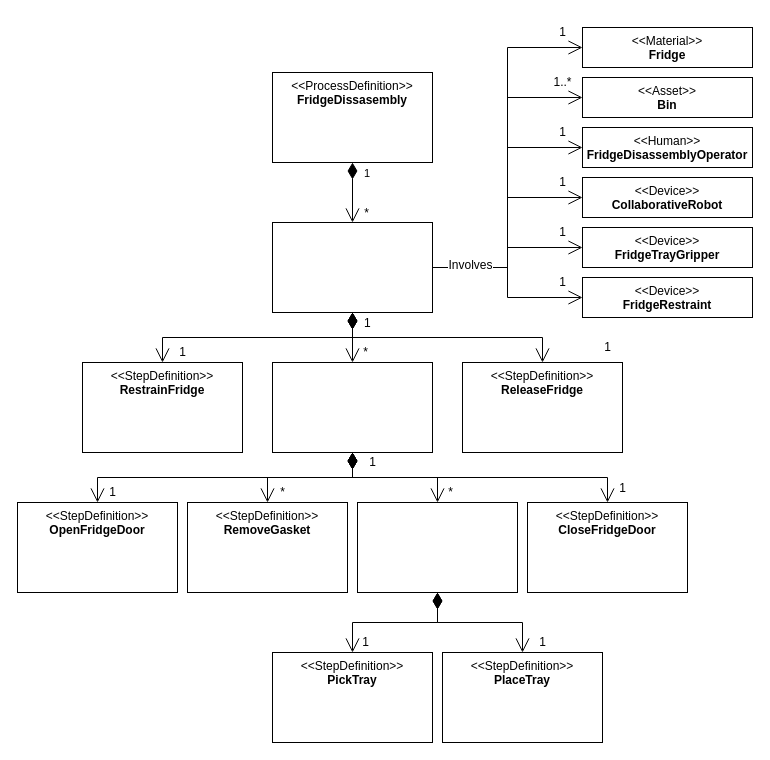
Some shapes in this 770 by 760 pixel diagram are drawn without their labels. Here are the shapes that lost their labels. From the top down, the centre of each, then its label:
pixel 352 267: <<TaskDefinition>> TrayAndGasketRemoval
pixel 352 407: <<StepDefinition>> TrayAndGasket CompartmentRemoval
pixel 437 547: <<StepDefinition>> TrayRemoval
